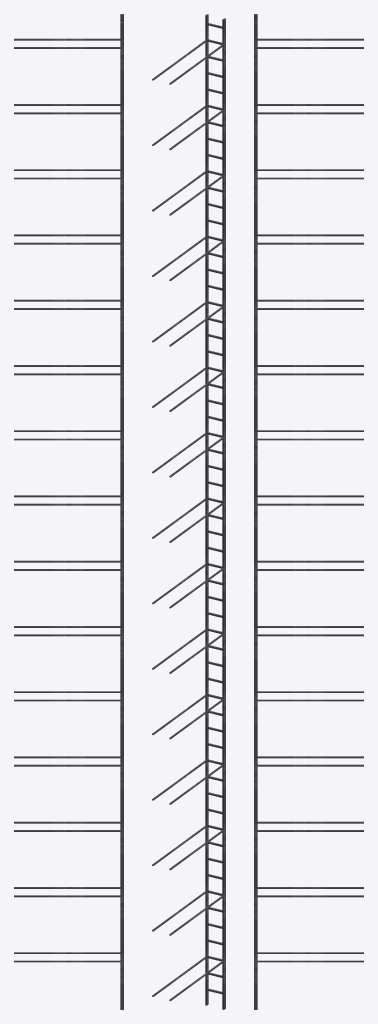
The model's file is objects_un_ladder_3000_01.gltf.
3 views of the same model, side by side, from view 1: azimuth 90°, elevation 25°; view 2: azimuth 150°, elevation 25°; view 3: azimuth 270°, elevation 25° (orthographic).
Visible parts, largest first — view 1: um_objects_un_ladder_3000_01_model_lod0Shape:objects_un_ladd; view 2: um_objects_un_ladder_3000_01_model_lod0Shape:objects_un_ladd; view 3: um_objects_un_ladder_3000_01_model_lod0Shape:objects_un_ladd.
Part boxes in pixels (left/top/right/bottom): um_objects_un_ladder_3000_01_model_lod0Shape:objects_un_ladd: left=14, top=14, right=123, bottom=1009; um_objects_un_ladder_3000_01_model_lod0Shape:objects_un_ladd: left=152, top=14, right=225, bottom=1009; um_objects_un_ladder_3000_01_model_lod0Shape:objects_un_ladd: left=254, top=14, right=363, bottom=1009.
Size of what is drawn, in the model's own units: 0.6 by 30.25 by 3.05.
Materials: 2 (1 with a texture image).
